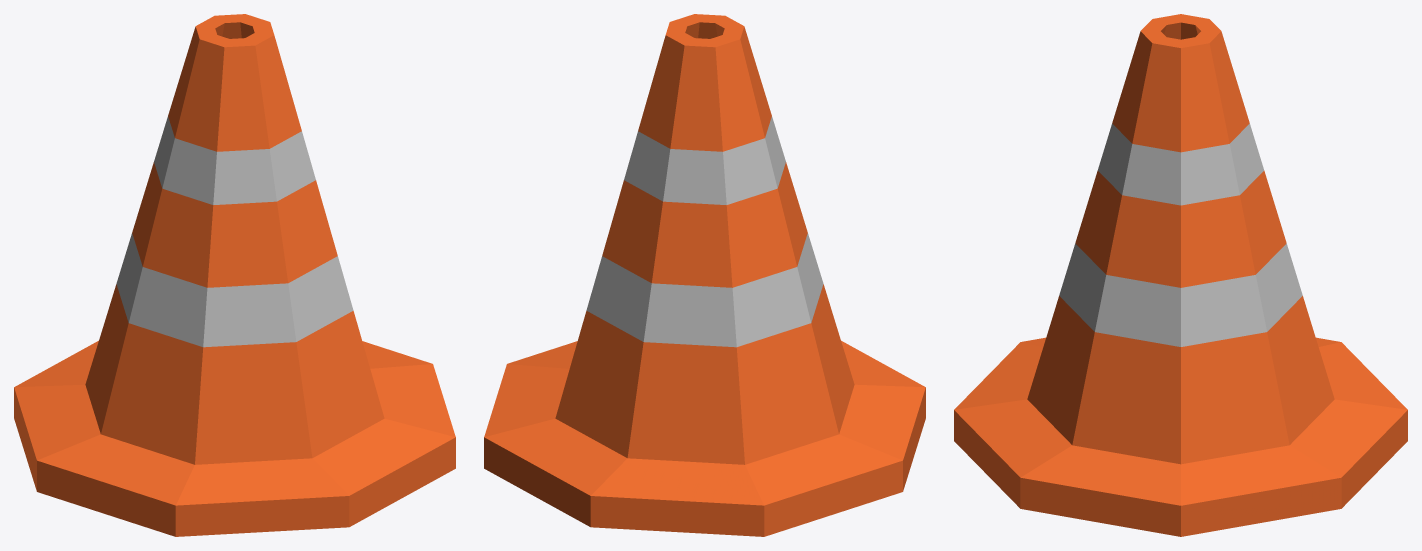
The model's file is Traffic_Cone.fbx.
3 views of the same model, side by side, from view 1: azimuth 30°, elevation 25°; view 2: azimuth 150°, elevation 25°; view 3: azimuth 270°, elevation 25° (orthographic).
Parts seen in each view (by area): view 1: Traffic Cone; view 2: Traffic Cone; view 3: Traffic Cone.
Part boxes in pixels (x1,y1,x2,y2): Traffic Cone: (14, 14, 455, 536); Traffic Cone: (484, 14, 925, 536); Traffic Cone: (954, 14, 1407, 536).
Bounding box in the file's own units: 172 × 171 × 172.
